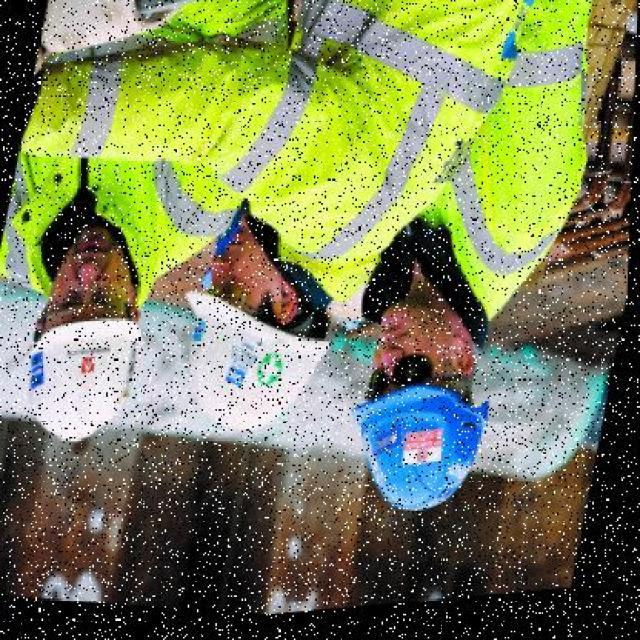helmet: (158, 277, 338, 460), (339, 360, 505, 528), (2, 289, 168, 453)
vest: (0, 0, 263, 306), (381, 0, 604, 353), (229, 0, 466, 318)
